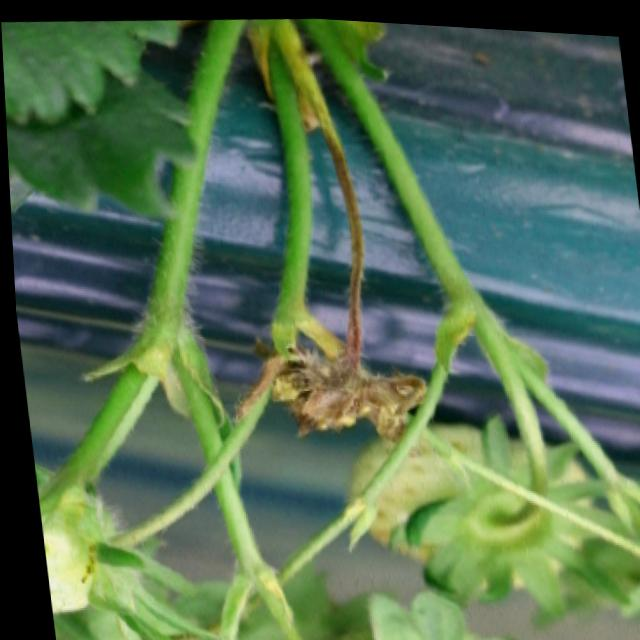Gray Mold: (228, 324, 423, 444)
